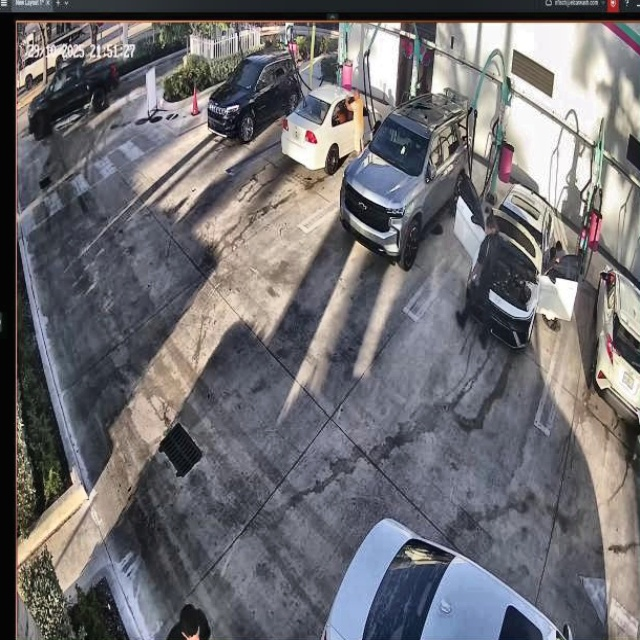Car: (343, 95, 471, 268), (459, 179, 577, 342), (282, 85, 382, 171)
